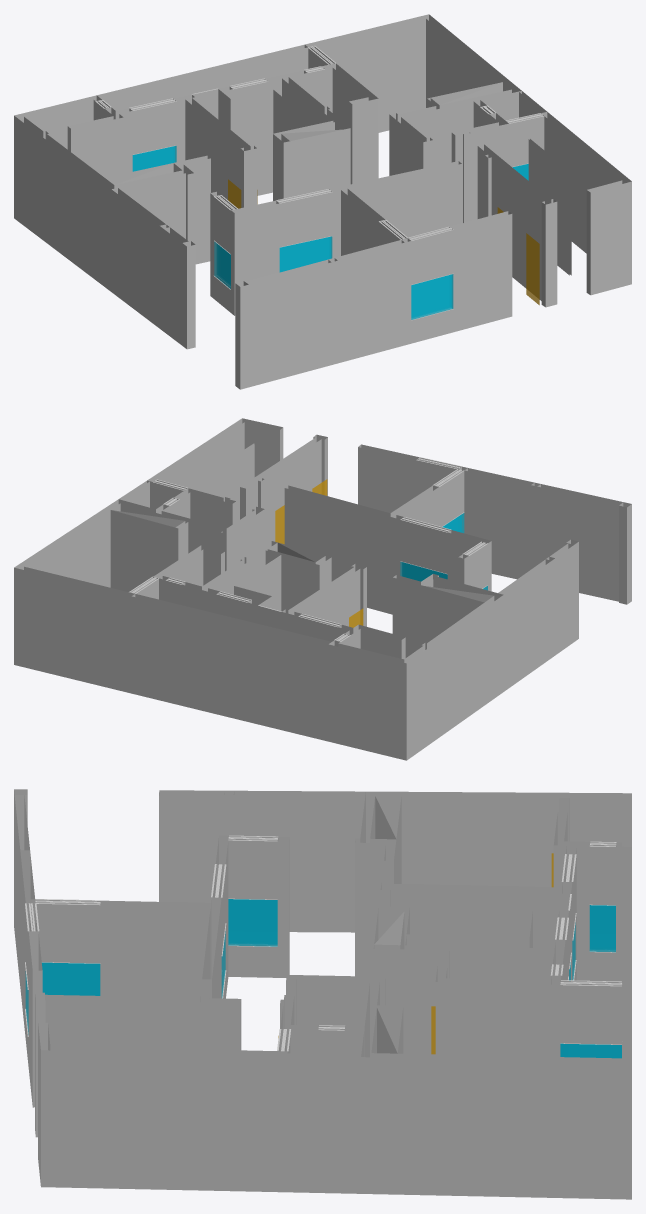
Rendered from 1a69b64e-9d1a-4623-a97f-f7905114c48b_no_roof.glb.
3 renders of one model, top to bottom at view 1: azimuth 30°, elevation 25°; view 2: azimuth 150°, elevation 25°; view 3: azimuth 270°, elevation 25°, orthographic. The views are drawn at different scales.
Visible parts, largest first — view 1: walls, windows, doors; view 2: walls, windows, doors; view 3: walls, windows.
Part boxes in pixels (x1,y1,x2,y2): walls: (14,14,631,389); windows: (132,145,528,319); doors: (228,179,539,305); walls: (14,418,631,760); windows: (400,513,487,590); doors: (275,479,363,627); walls: (14,789,631,1199); windows: (25,899,621,1058).
Bounding box in the file's own units: 14.99 × 3.5 × 14.32.
